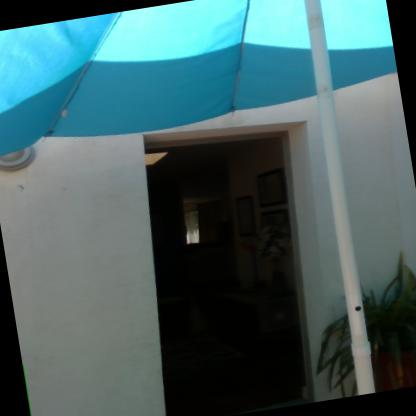open: (107, 102, 357, 415)
